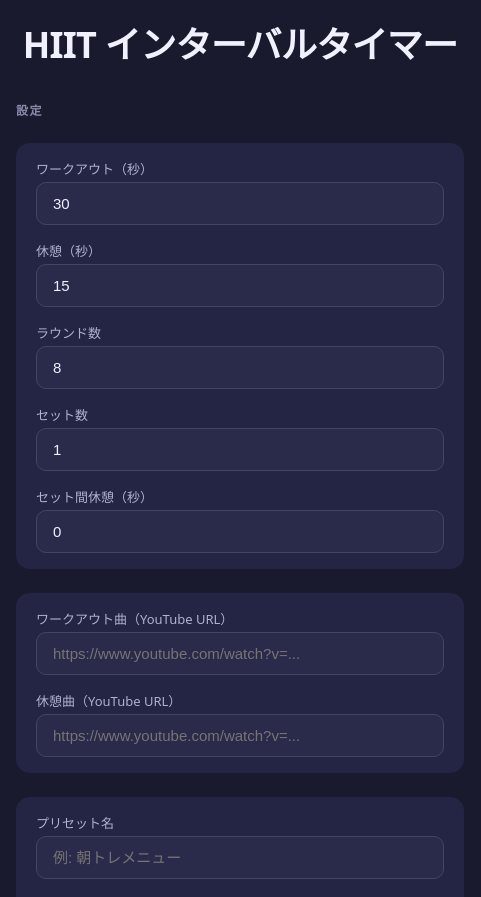
it: App 統合テスト › プリセット保存成功後に読み込み警告をクリアする
Type "警告クリア用" into the field labelled "プリセット名". click: x=240, y=858
box: left=36, top=836, right=444, bottom=879
(page scrolled)
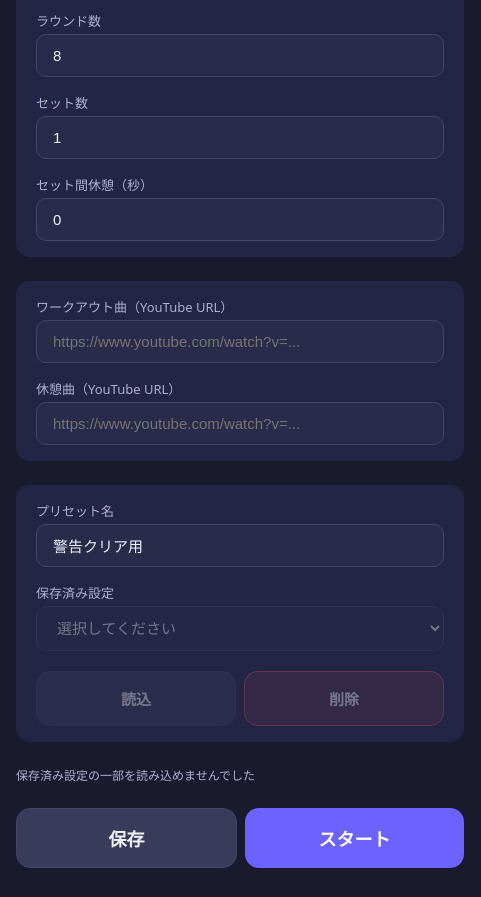
Click the button "保存". click: x=126, y=838
box: left=16, top=808, right=237, bottom=868
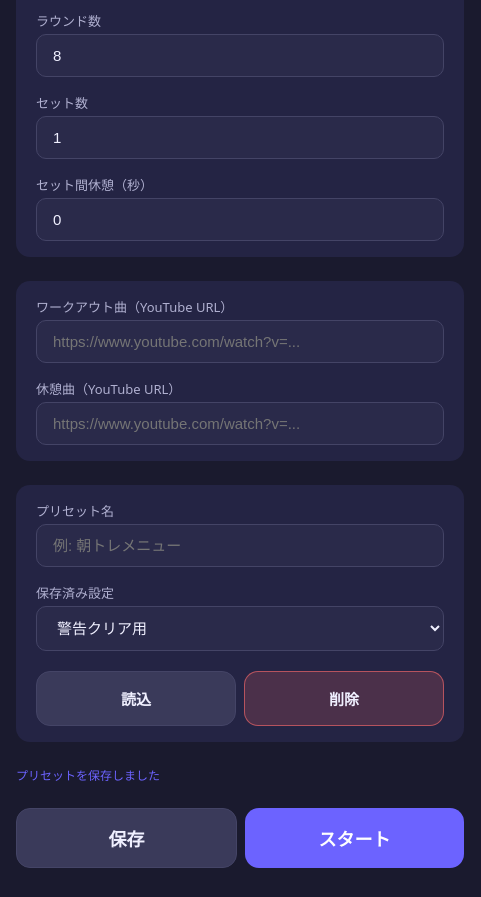
Expected: the text "保存済み設定の一部を読み込めませんでした" is gone
